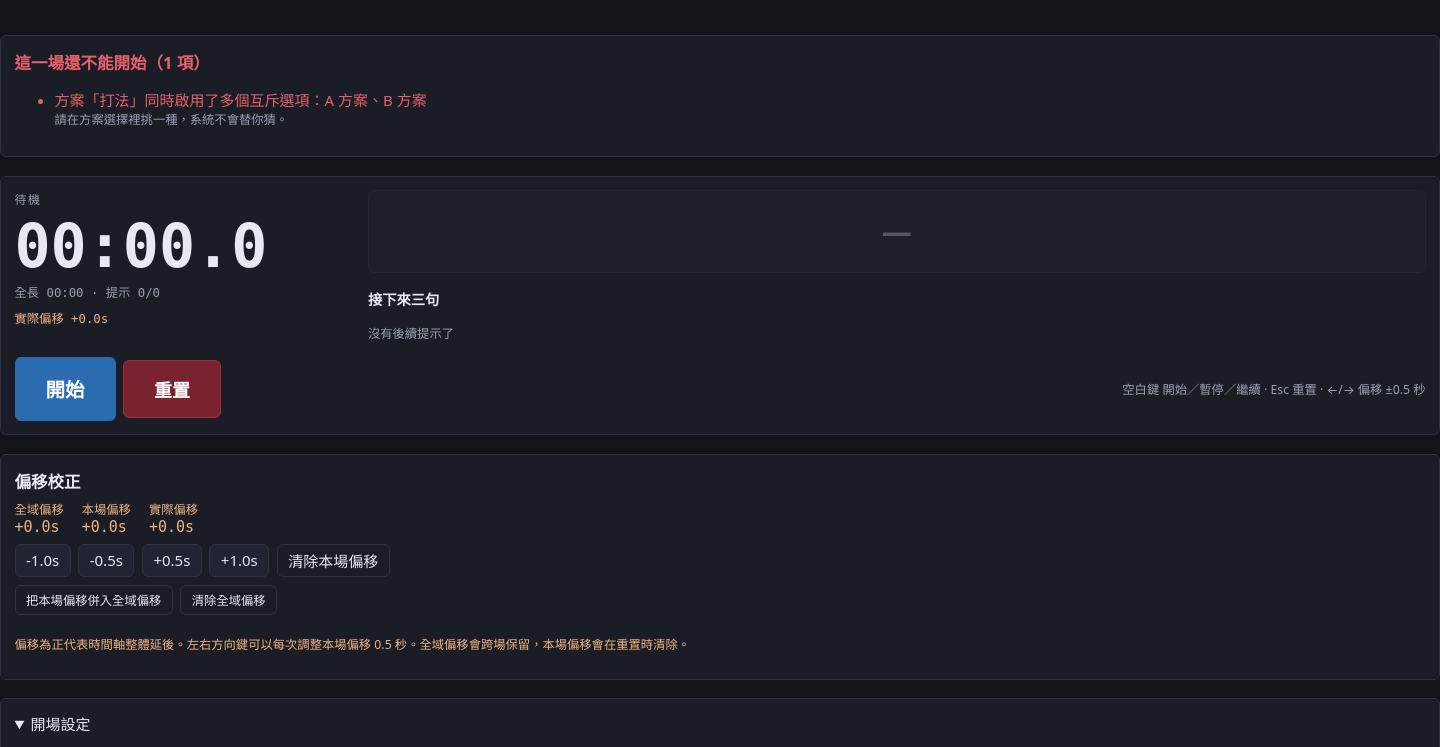
Scenario: B9/B10. 三個開始入口的規則一致 › 互斥衝突：阻擋，並要求選定方案
The image size is (1440, 747).
Click the button "開始".
click(65, 389)  # box [14, 357, 116, 421]
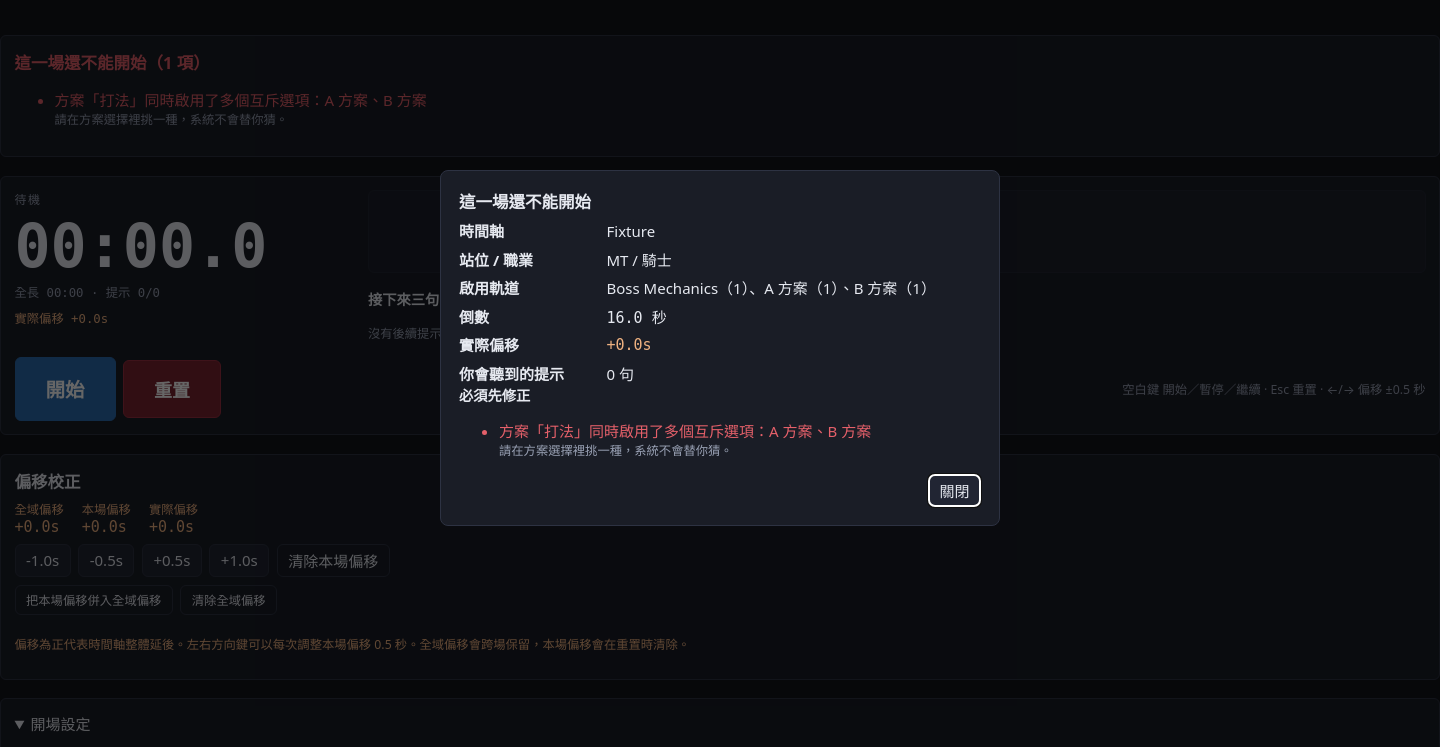
Expected: the heading "這一場還不能開始" is shown, [459, 190, 591, 213]
Expected: the text "方案「打法」同時啟用了多個互斥選項：A 方案、B 方案" is shown, [499, 421, 871, 441]
Click the button "關閉".
click(954, 491)  # box [928, 474, 981, 507]
(page scrolled)
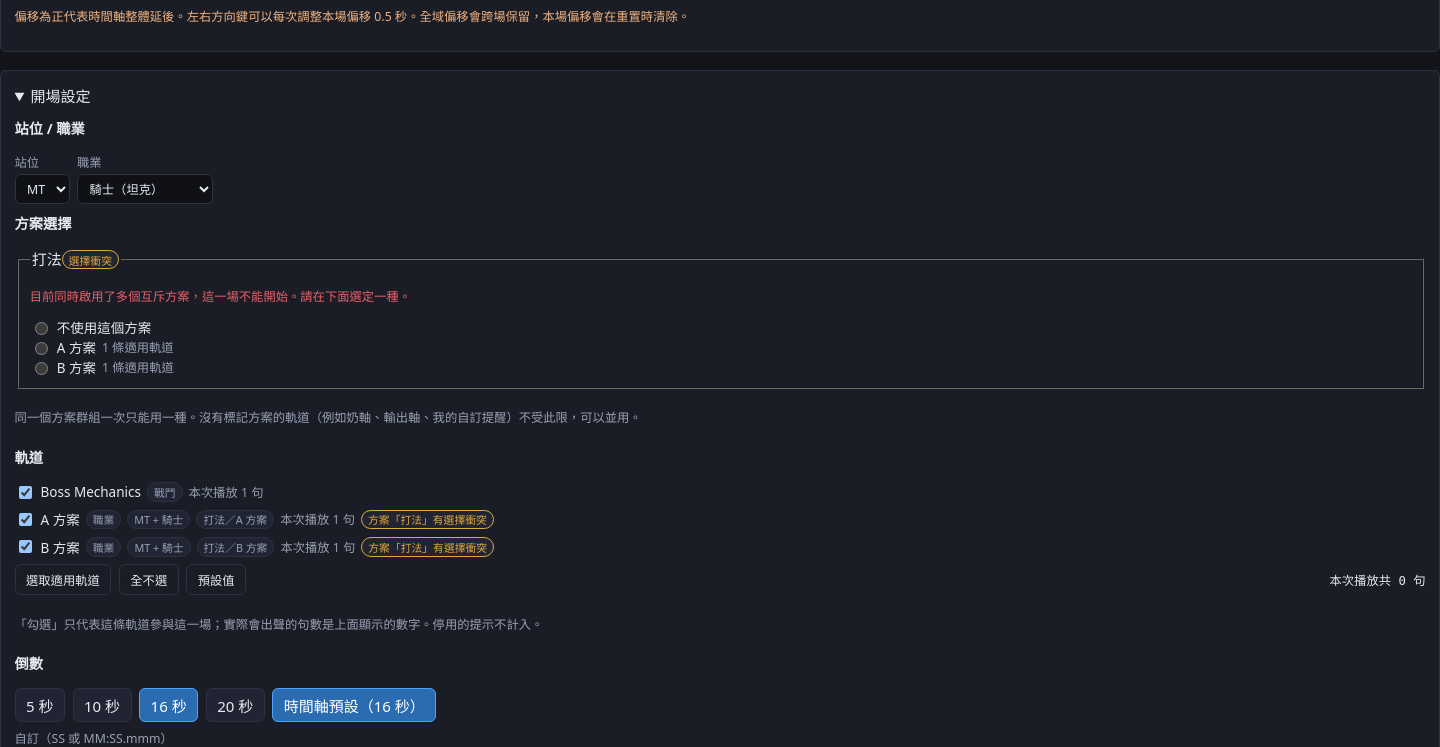
Click the radio button labelled "A 方案 1 條適用軌道".
click(41, 349)  # box [35, 342, 48, 355]
(page scrolled)
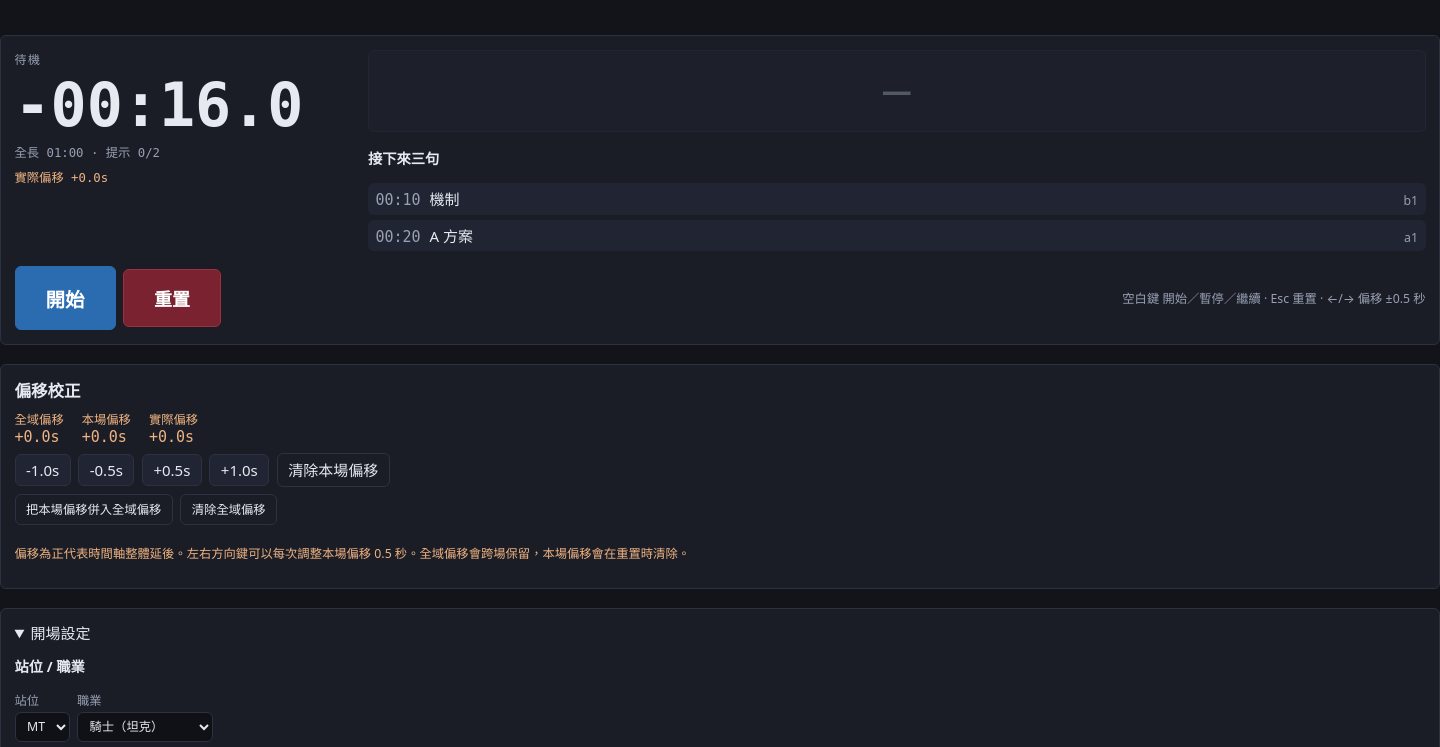
Click the button "開始".
click(65, 298)  # box [14, 266, 116, 330]
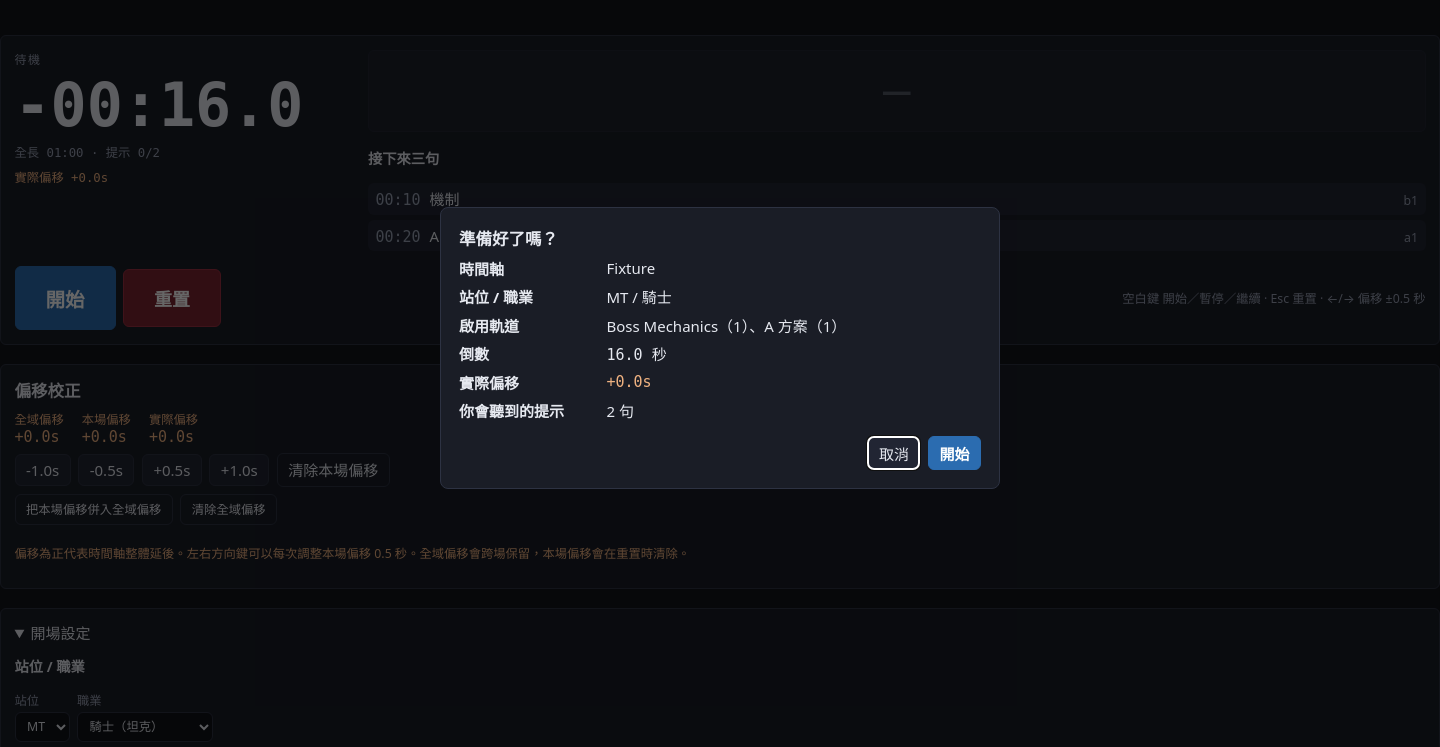
Expected: the heading "準備好了嗎？" is shown, [459, 227, 558, 250]
